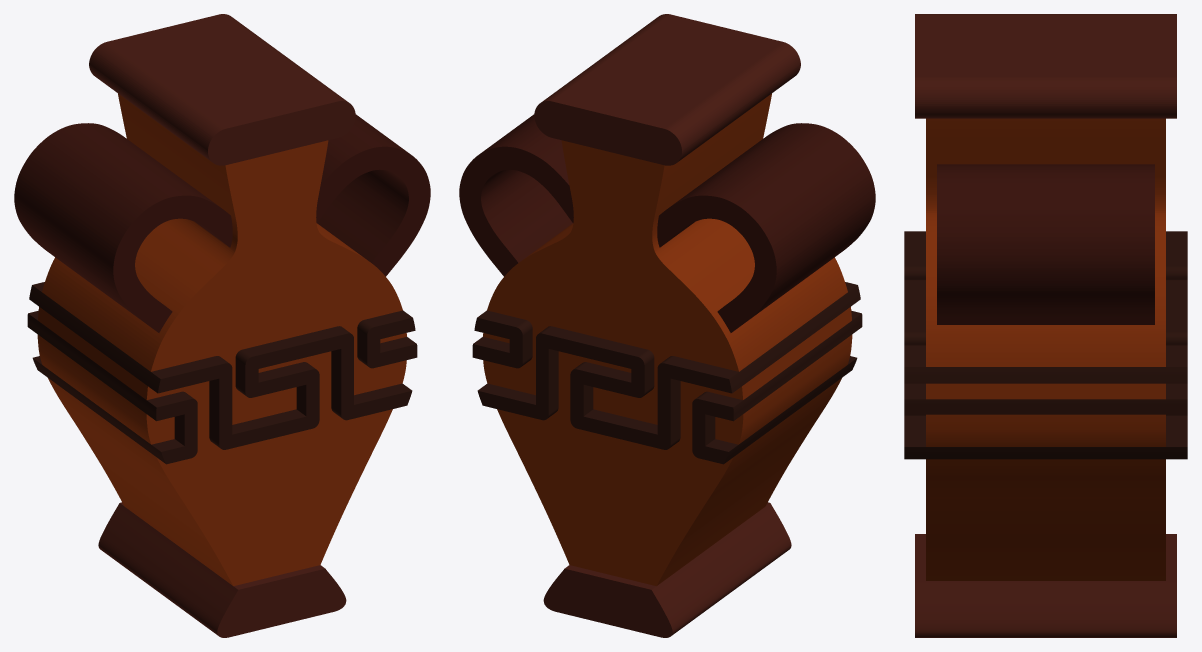
The picture shows the model from 3 angles, left to right: view 1: azimuth 30°, elevation 25°; view 2: azimuth 150°, elevation 25°; view 3: azimuth 270°, elevation 25°; orthographic projection. The views are drawn at different scales.
Parts seen in each view (by area): view 1: U+1F3FA_layer01_obj00, U+1F3FA_layer02_obj00, U+1F3FA_layer00_obj00, U+1F3FA_layer03_obj00; view 2: U+1F3FA_layer01_obj00, U+1F3FA_layer02_obj00, U+1F3FA_layer00_obj00, U+1F3FA_layer03_obj00; view 3: U+1F3FA_layer01_obj00, U+1F3FA_layer02_obj00, U+1F3FA_layer00_obj00, U+1F3FA_layer03_obj00.
Boxes of the visible parts, x1,y1,x2,y2 form: U+1F3FA_layer01_obj00: (37, 93, 406, 586); U+1F3FA_layer02_obj00: (89, 14, 355, 637); U+1F3FA_layer00_obj00: (14, 114, 430, 332); U+1F3FA_layer03_obj00: (27, 282, 417, 464); U+1F3FA_layer01_obj00: (483, 93, 852, 586); U+1F3FA_layer02_obj00: (534, 14, 800, 637); U+1F3FA_layer00_obj00: (459, 114, 875, 332); U+1F3FA_layer03_obj00: (472, 282, 862, 464); U+1F3FA_layer01_obj00: (926, 118, 1165, 580); U+1F3FA_layer02_obj00: (915, 14, 1176, 637); U+1F3FA_layer00_obj00: (937, 164, 1154, 324); U+1F3FA_layer03_obj00: (904, 231, 1187, 459).
Bounding box in the file's own units: 0.3703 × 0.5677 × 0.26.
